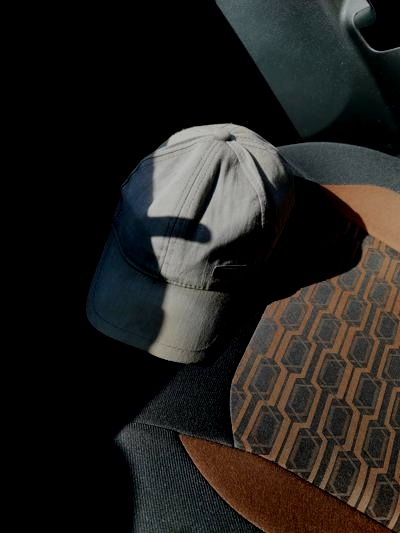Hat: (65, 117, 304, 380)
